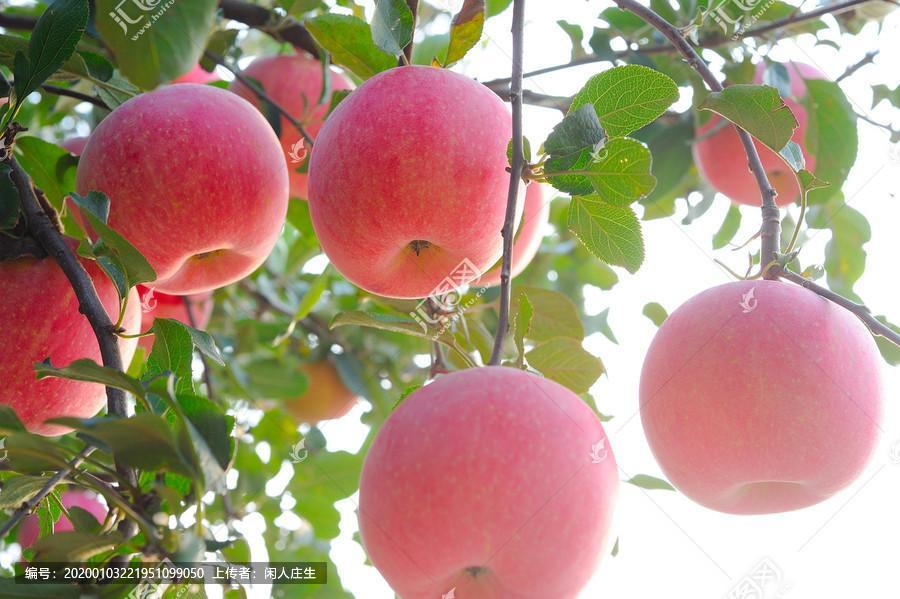apple: (356, 367, 618, 594), (638, 280, 887, 511), (303, 65, 532, 310), (75, 86, 292, 298), (1, 233, 143, 436)
